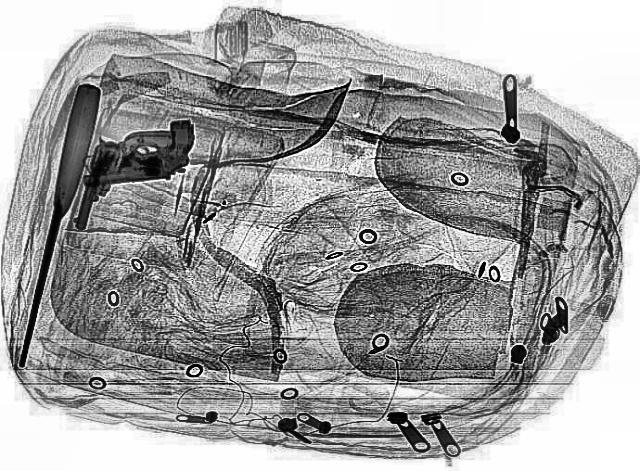Gun: (65, 119, 178, 239), (70, 116, 204, 187)
Knife: (5, 82, 104, 368)
